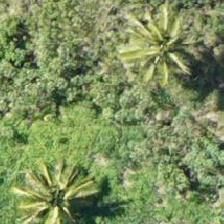coconut_tree: (119, 11, 209, 101), (10, 154, 100, 223)
